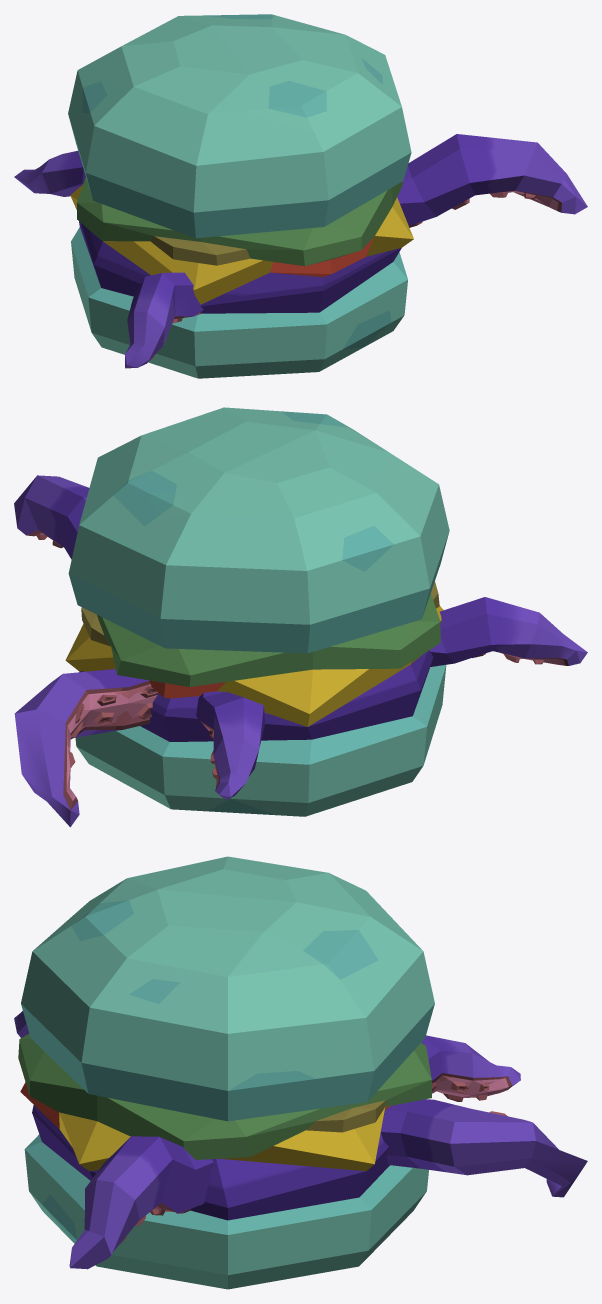
Rendered from SM_Prop_Food_Burger_01.fbx.
The picture shows the model from 3 angles, top to bottom: view 1: azimuth 30°, elevation 25°; view 2: azimuth 150°, elevation 25°; view 3: azimuth 270°, elevation 25°; orthographic projection. The views are drawn at different scales.
Parts seen in each view (by area): view 1: SM_Prop_Food_Burger_01; view 2: SM_Prop_Food_Burger_01; view 3: SM_Prop_Food_Burger_01.
Part boxes in pixels (bbox=[...]): SM_Prop_Food_Burger_01: bbox=[14, 14, 587, 378]; SM_Prop_Food_Burger_01: bbox=[14, 407, 587, 827]; SM_Prop_Food_Burger_01: bbox=[14, 856, 587, 1289].
Bounding box in the file's own units: 33.65 × 17.65 × 29.62.
